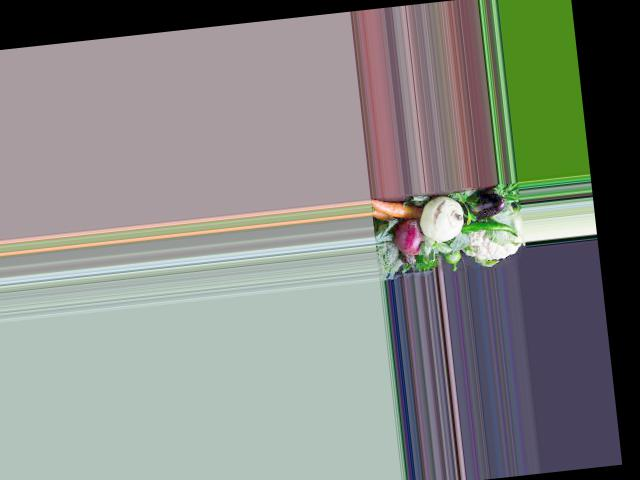carrot: (369, 193, 413, 226)
